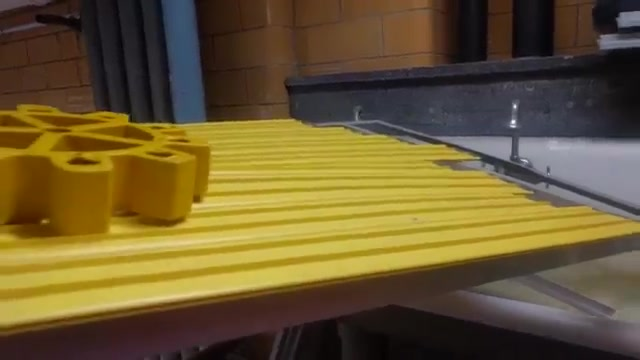gear: (1, 91, 216, 244)
